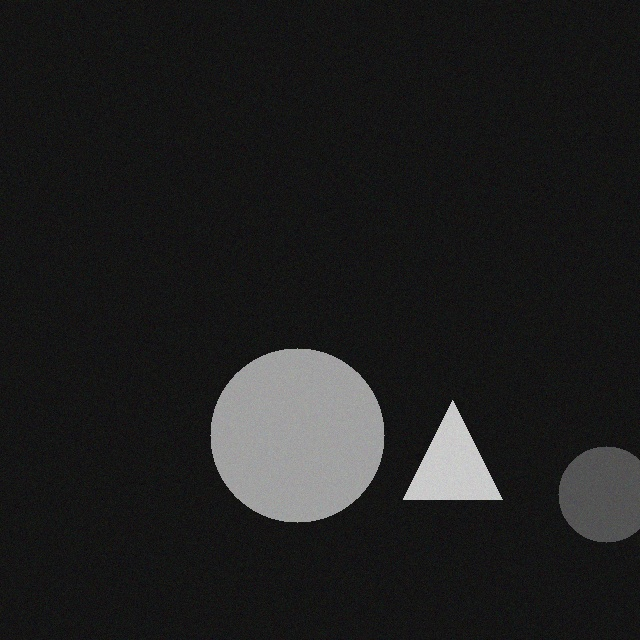circle: (195, 347, 369, 521), (543, 445, 639, 541)
triangle: (388, 399, 487, 498)
